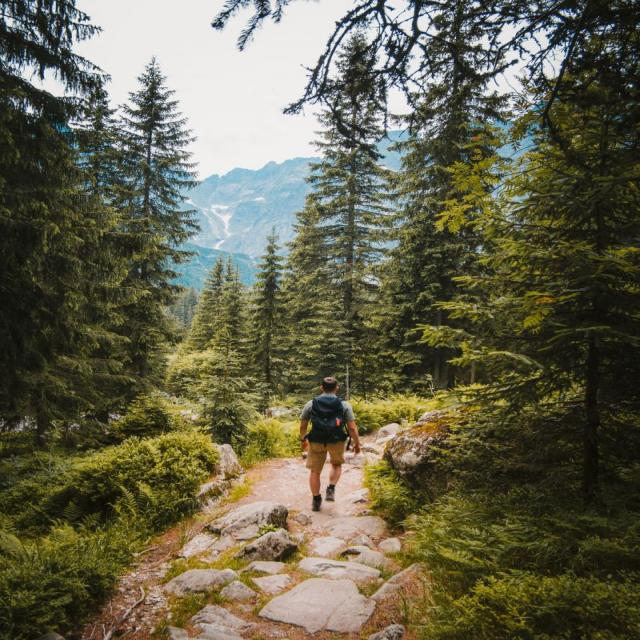running: (296, 375, 363, 514)
